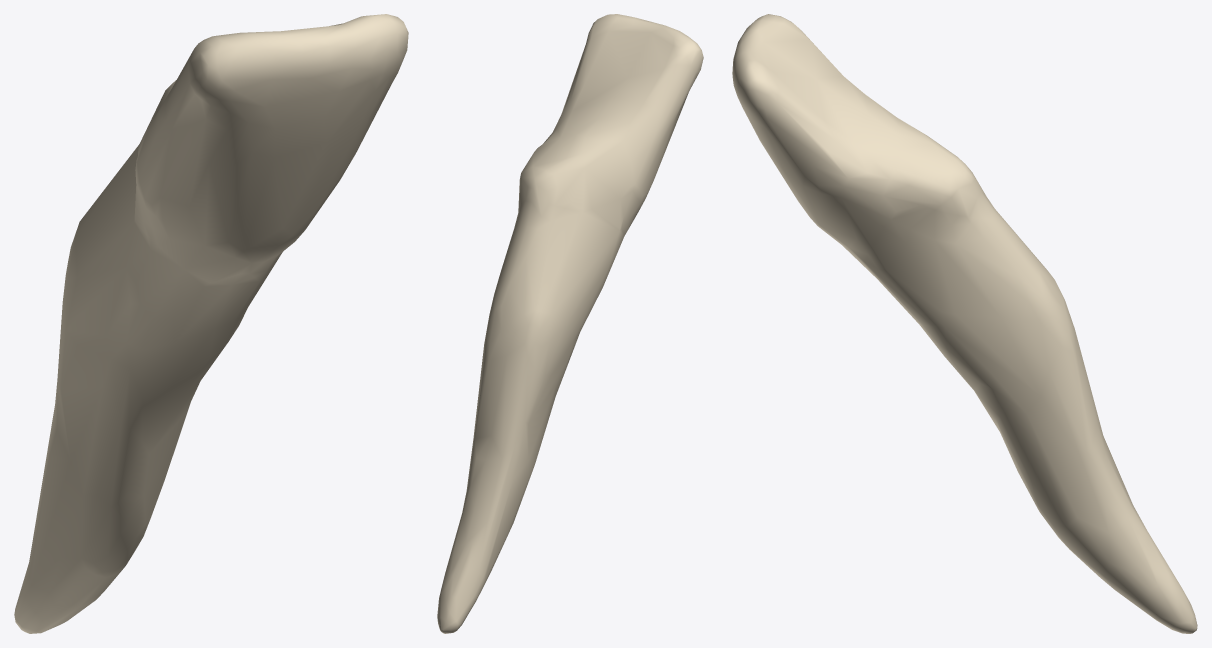
The model's file is lower-medial-incisor-r.glb.
The picture shows the model from 3 angles, left to right: view 1: azimuth 30°, elevation 25°; view 2: azimuth 150°, elevation 25°; view 3: azimuth 270°, elevation 25°; orthographic projection. The views are drawn at different scales.
Parts seen in each view (by area): view 1: Lower medial incisor.r; view 2: Lower medial incisor.r; view 3: Lower medial incisor.r.
Boxes of the visible parts, x1=… form: Lower medial incisor.r: x1=14, y1=14, x2=408, y2=633; Lower medial incisor.r: x1=437, y1=14, x2=703, y2=633; Lower medial incisor.r: x1=732, y1=14, x2=1197, y2=633.
Bounding box in the file's own units: 0.00612 × 0.0247 × 0.0179.
